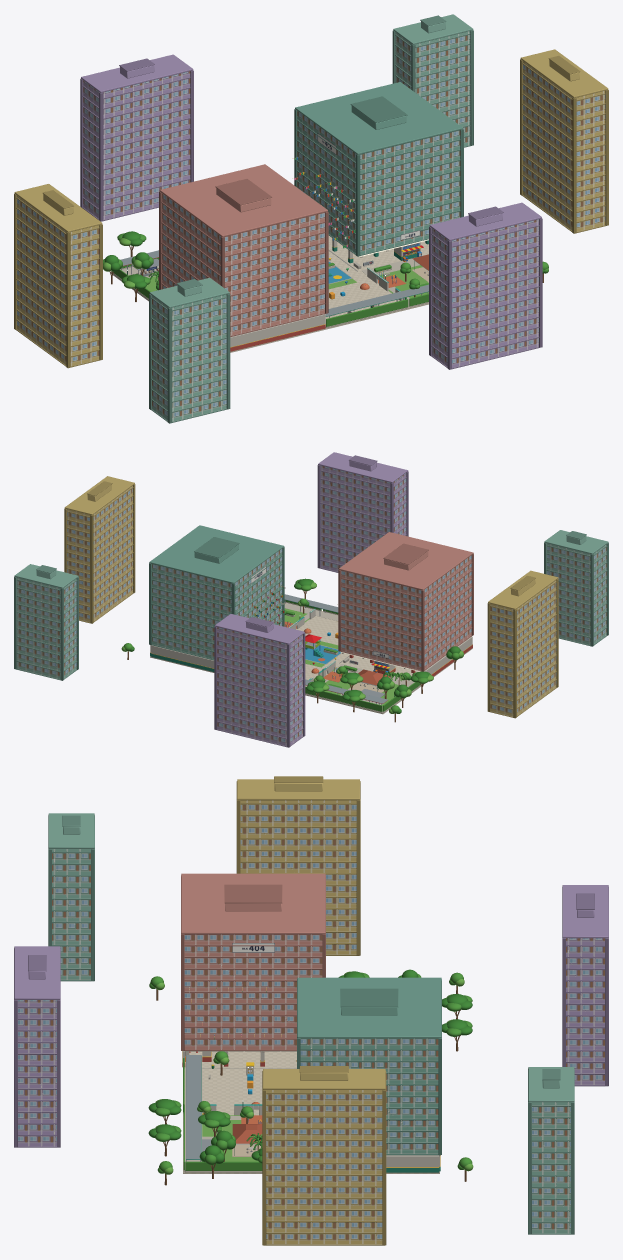
The model's file is voiddeck_lit.glb.
The picture shows the model from 3 angles, top to bottom: view 1: azimuth 30°, elevation 25°; view 2: azimuth 150°, elevation 25°; view 3: azimuth 270°, elevation 25°; orthographic projection. The views are drawn at different scales.
Parts seen in each view (by area): view 1: VD_hi_facade_#b7a3cc_0, VD_hi_facade_#d9c27a_0, VD_hi_facade_#7fb5a3_4.5, VD_hi_facade_#d6988c_4.5, VD_hi_facade_#8fc0ae_0, VD_hi_#837592_0.45_0.0_0.2_0.0, VD_hi_#9c8b57_0.45_0.0_0.2_0.0, VD_hi_#6d9b8c_0.5_0.0_0.1_0.0, VD_hi_#b88278_0.5_0.0_0.1_0.0, VD_hi_#668a7d_0.45_0.0_0.2_0.0, VD_hi_#5b8275_0.45_0.0_0.2_0.0, VD_hi_#9a6d64_0.45_0.0_0.2_0.0 (+9 smaller); view 2: VD_hi_facade_#b7a3cc_0, VD_hi_facade_#d9c27a_0, VD_hi_facade_#d6988c_4.5, VD_hi_facade_#8fc0ae_0, VD_hi_facade_#7fb5a3_4.5, VD_hi_#9c8b57_0.45_0.0_0.2_0.0, VD_hi_#837592_0.45_0.0_0.2_0.0, VD_hi_#668a7d_0.45_0.0_0.2_0.0, VD_hi_#6d9b8c_0.5_0.0_0.1_0.0, VD_hi_#b88278_0.5_0.0_0.1_0.0, VD_hi_#9a6d64_0.45_0.0_0.2_0.0, VD_hi_#5b8275_0.45_0.0_0.2_0.0 (+12 smaller); view 3: VD_hi_facade_#d9c27a_0, VD_hi_facade_#d6988c_4.5, VD_hi_facade_#b7a3cc_0, VD_hi_facade_#8fc0ae_0, VD_hi_#9c8b57_0.45_0.0_0.2_0.0, VD_hi_facade_#7fb5a3_4.5, VD_hi_#6d9b8c_0.5_0.0_0.1_0.0, VD_hi_#b88278_0.5_0.0_0.1_0.0, VD_hi_#837592_0.45_0.0_0.2_0.0, VD_hi_#9a6d64_0.45_0.0_0.2_0.0, VD_hi_#668a7d_0.45_0.0_0.2_0.0, VD_hi_#9d8caf_0.5_0.0_0.1_0.0 (+10 smaller).
Boxes of the visible parts, <box> form: VD_hi_facade_#b7a3cc_0: <box>83,71,538,367</box>; VD_hi_facade_#d9c27a_0: <box>17,61,605,366</box>; VD_hi_facade_#7fb5a3_4.5: <box>297,111,460,254</box>; VD_hi_facade_#d6988c_4.5: <box>162,193,324,335</box>; VD_hi_facade_#8fc0ae_0: <box>152,31,470,421</box>; VD_hi_#837592_0.45_0.0_0.2_0.0: <box>80,58,542,369</box>; VD_hi_#9c8b57_0.45_0.0_0.2_0.0: <box>14,55,608,368</box>; VD_hi_#6d9b8c_0.5_0.0_0.1_0.0: <box>295,82,463,154</box>; VD_hi_#b88278_0.5_0.0_0.1_0.0: <box>159,164,327,237</box>; VD_hi_#668a7d_0.45_0.0_0.2_0.0: <box>149,15,473,423</box>; VD_hi_#5b8275_0.45_0.0_0.2_0.0: <box>294,96,463,256</box>; VD_hi_#9a6d64_0.45_0.0_0.2_0.0: <box>159,179,328,336</box>; VD_hi_facade_#b7a3cc_0: <box>217,465,406,746</box>; VD_hi_facade_#d9c27a_0: <box>67,486,556,716</box>; VD_hi_facade_#d6988c_4.5: <box>341,555,471,670</box>; VD_hi_facade_#8fc0ae_0: <box>17,543,606,679</box>; VD_hi_facade_#7fb5a3_4.5: <box>152,549,282,659</box>; VD_hi_#9c8b57_0.45_0.0_0.2_0.0: <box>64,481,558,718</box>; VD_hi_#837592_0.45_0.0_0.2_0.0: <box>214,455,408,747</box>; VD_hi_#668a7d_0.45_0.0_0.2_0.0: <box>14,531,608,680</box>; VD_hi_#6d9b8c_0.5_0.0_0.1_0.0: <box>149,525,284,583</box>; VD_hi_#b88278_0.5_0.0_0.1_0.0: <box>338,532,473,590</box>; VD_hi_#9a6d64_0.45_0.0_0.2_0.0: <box>338,543,473,671</box>; VD_hi_#5b8275_0.45_0.0_0.2_0.0: <box>149,537,284,660</box>; VD_hi_facade_#d9c27a_0: <box>240,800,382,1244</box>; VD_hi_facade_#d6988c_4.5: <box>184,934,322,1049</box>; VD_hi_facade_#b7a3cc_0: <box>18,938,604,1146</box>; VD_hi_facade_#8fc0ae_0: <box>52,849,570,1233</box>; VD_hi_#9c8b57_0.45_0.0_0.2_0.0: <box>236,776,386,1245</box>; VD_hi_facade_#7fb5a3_4.5: <box>300,1038,438,1153</box>; VD_hi_#6d9b8c_0.5_0.0_0.1_0.0: <box>297,977,441,1038</box>; VD_hi_#b88278_0.5_0.0_0.1_0.0: <box>181,873,325,934</box>; VD_hi_#837592_0.45_0.0_0.2_0.0: <box>14,887,608,1147</box>; VD_hi_#9a6d64_0.45_0.0_0.2_0.0: <box>181,875,325,1050</box>; VD_hi_#668a7d_0.45_0.0_0.2_0.0: <box>48,815,574,1234</box>; VD_hi_#9d8caf_0.5_0.0_0.1_0.0: <box>14,885,608,999</box>.
Size of what is drawn, in the model's own units: 171 by 44.15 by 139.
98 materials, 9 textured.
